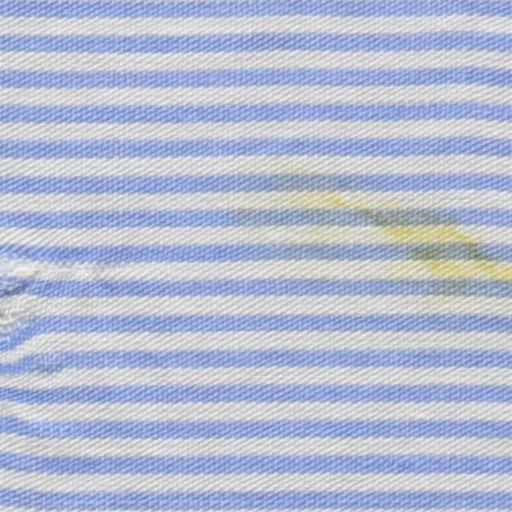defect: (330, 176, 512, 299), (1, 253, 37, 321)
